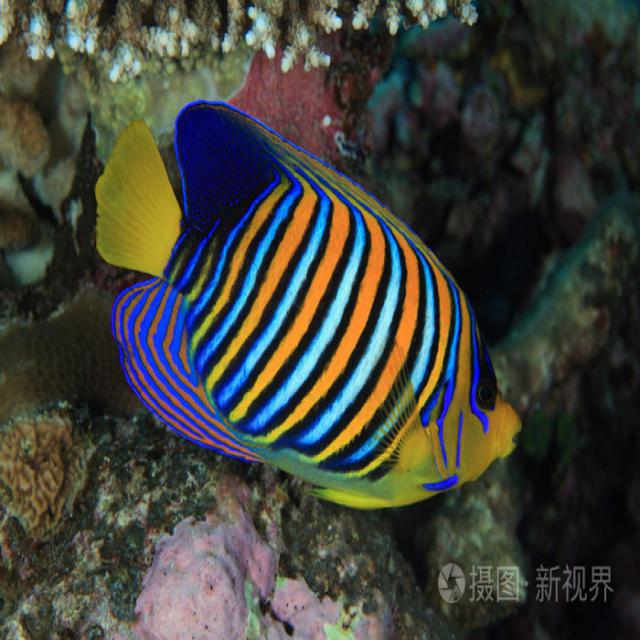AngelFish: (97, 103, 522, 509)
